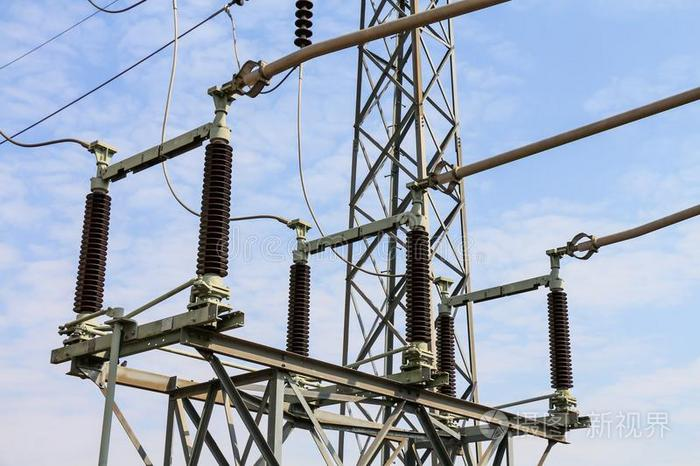insulator: (293, 1, 313, 47)
